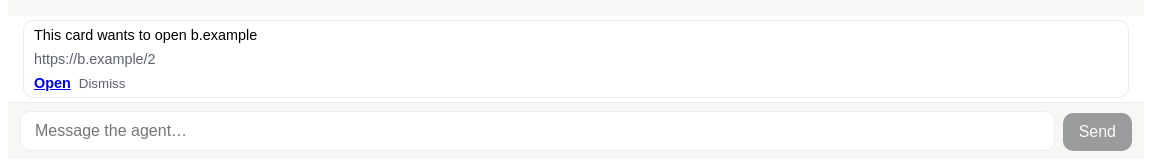
Test case: ui/open-link — the kit's disclosure affordance (guuey#522) › Open and Dismiss both clear the ask; a newer ask REPLACES the pending one (anti-spam cap of one)
Expected: the text "https://b.example/2" is shown, x1=34 y1=51 x2=156 y2=67
Step 1. Click the button "Dismiss" → (102,83), box x1=79 y1=76 x2=126 y2=90
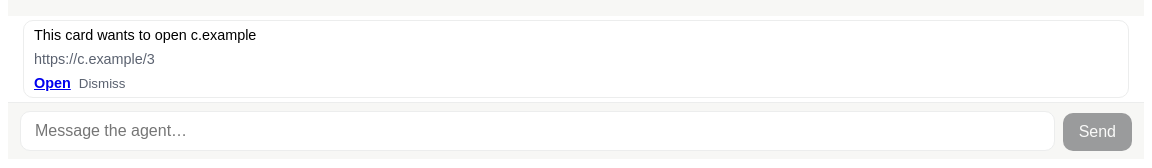
Result: the text "https://b.example/2" is gone
Step 2. Click the link "Open" → (52,83), box x1=34 y1=75 x2=71 y2=91
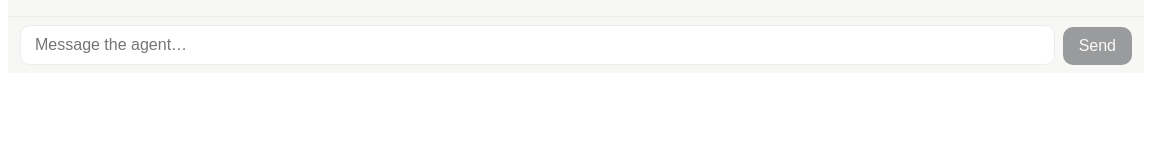
Result: the text "https://c.example/3" is gone
